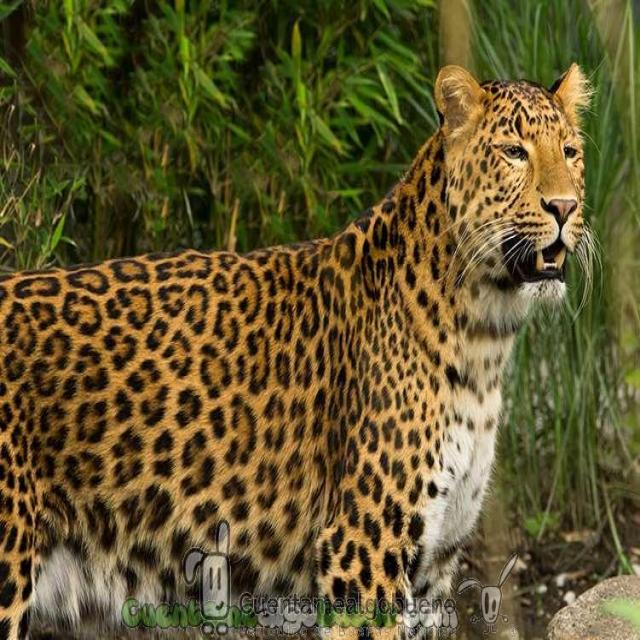Leopard: (1, 65, 592, 640)
